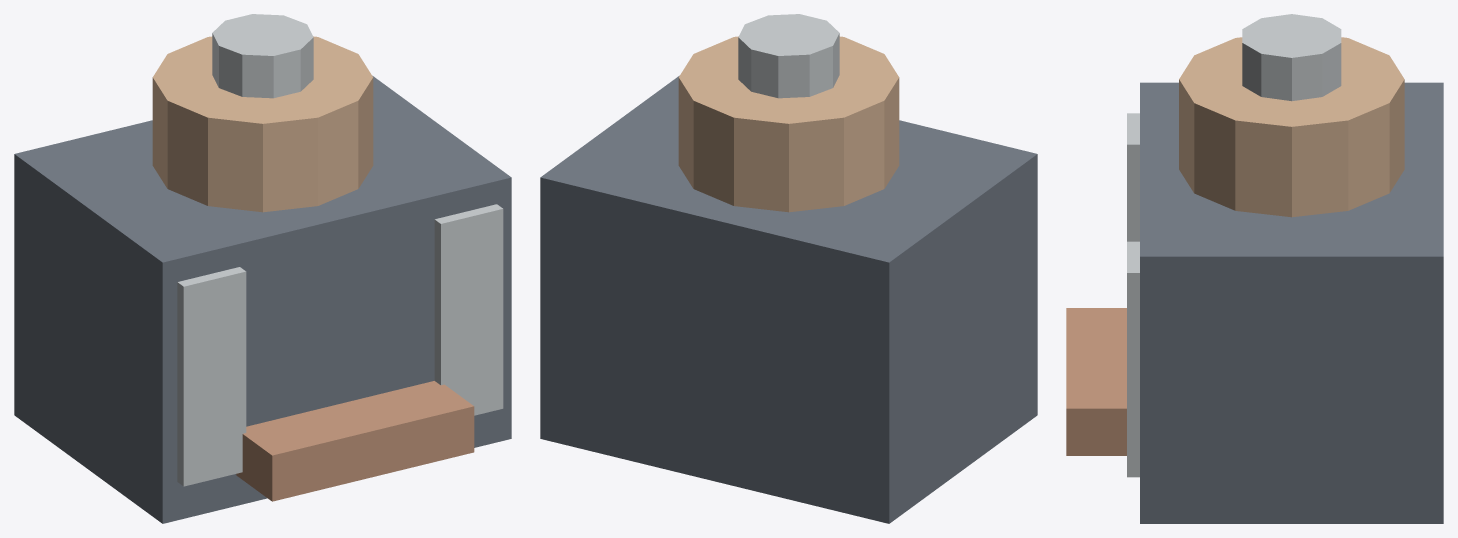
File: objeto_motor.glb
3 views of the same model, side by side, from view 1: azimuth 30°, elevation 25°; view 2: azimuth 150°, elevation 25°; view 3: azimuth 270°, elevation 25° (orthographic). The views are drawn at different scales.
Parts seen in each view (by area): view 1: objeto_motor; view 2: objeto_motor; view 3: objeto_motor.
Part boxes in pixels (x1,y1,x2,y2): objeto_motor: [14, 14, 511, 523]; objeto_motor: [540, 14, 1037, 523]; objeto_motor: [1066, 14, 1443, 523].
Size of the model in its own units: 0.95 by 1.02 by 0.87.
